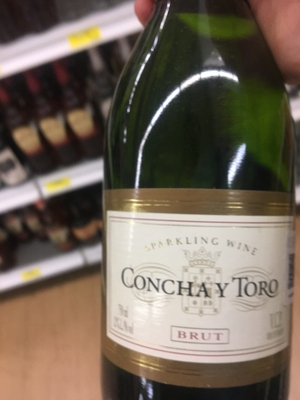brut: (92, 14, 300, 393)
